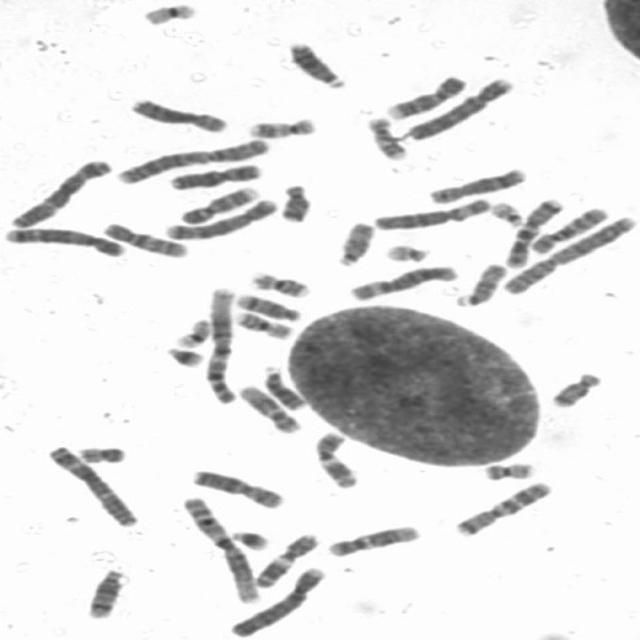A1: (177, 494, 263, 603), (200, 283, 240, 406)
A2: (498, 212, 638, 296), (110, 135, 272, 186)
A3: (4, 155, 116, 230), (42, 443, 140, 527)
B4: (401, 73, 517, 143), (226, 562, 329, 638)
B5: (161, 196, 281, 241), (0, 222, 128, 259)
C10: (526, 202, 613, 255), (100, 220, 192, 260)
C11: (250, 530, 320, 589), (308, 428, 362, 491)
C12: (234, 382, 304, 434), (322, 522, 421, 558)
C6: (346, 260, 460, 303), (366, 196, 494, 232)
C7: (451, 479, 553, 538), (501, 195, 565, 269)
C8: (425, 165, 528, 204), (126, 95, 231, 133)
C9: (381, 72, 469, 120), (176, 183, 263, 225)
D13: (284, 38, 349, 90), (256, 361, 310, 411)
D14: (81, 566, 130, 619), (232, 290, 302, 322)
D15: (451, 260, 508, 308), (333, 218, 376, 268)
E16: (231, 308, 295, 341), (244, 268, 312, 298)
E17: (242, 112, 321, 140), (362, 114, 407, 162)
E18: (544, 368, 604, 409), (275, 180, 315, 223)
F19: (136, 0, 198, 26), (170, 316, 212, 349)
F20: (71, 442, 129, 465), (479, 460, 538, 481)
G21: (226, 527, 272, 551), (162, 344, 206, 368)
G22: (380, 240, 431, 264), (486, 200, 526, 228)
X: (185, 466, 285, 510), (163, 161, 264, 192)
